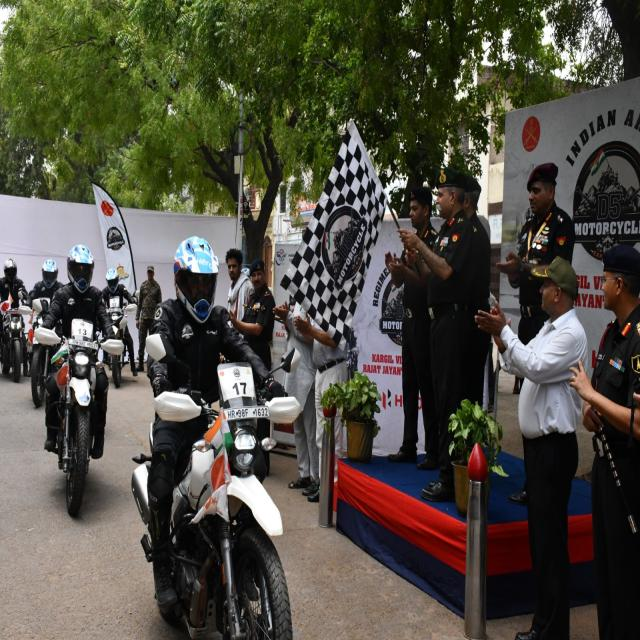plate: (224, 404, 270, 421), (66, 337, 100, 351), (106, 308, 124, 314)
